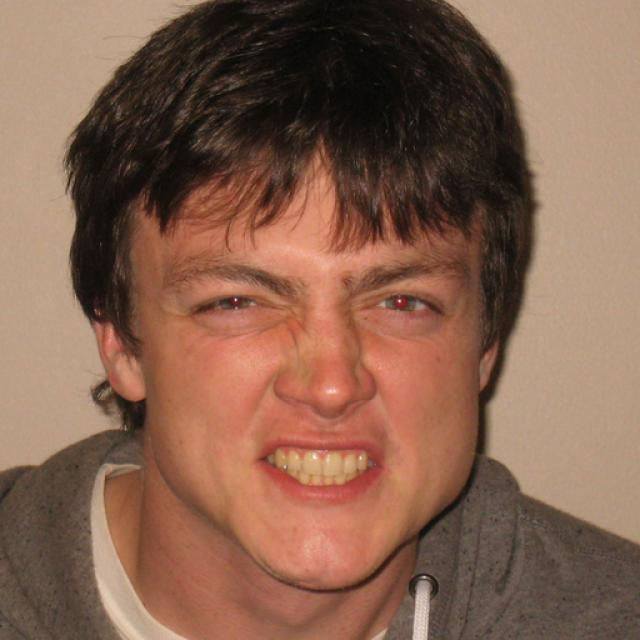disgust: (142, 107, 482, 590)
